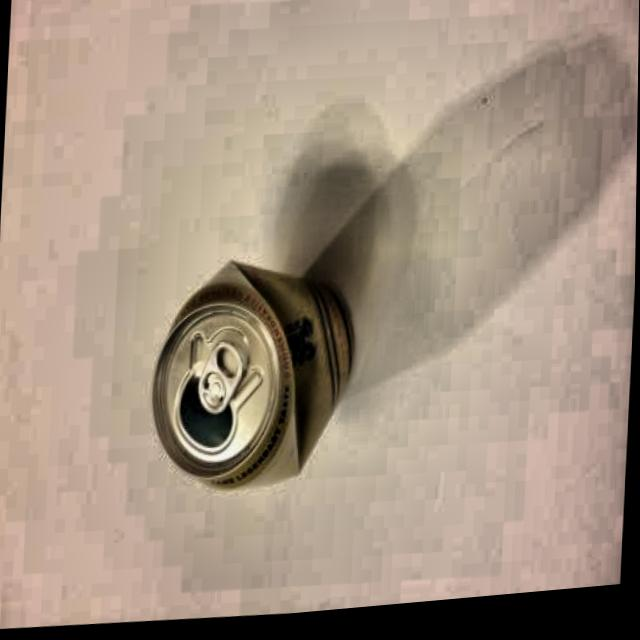Cans: (130, 229, 371, 520)
